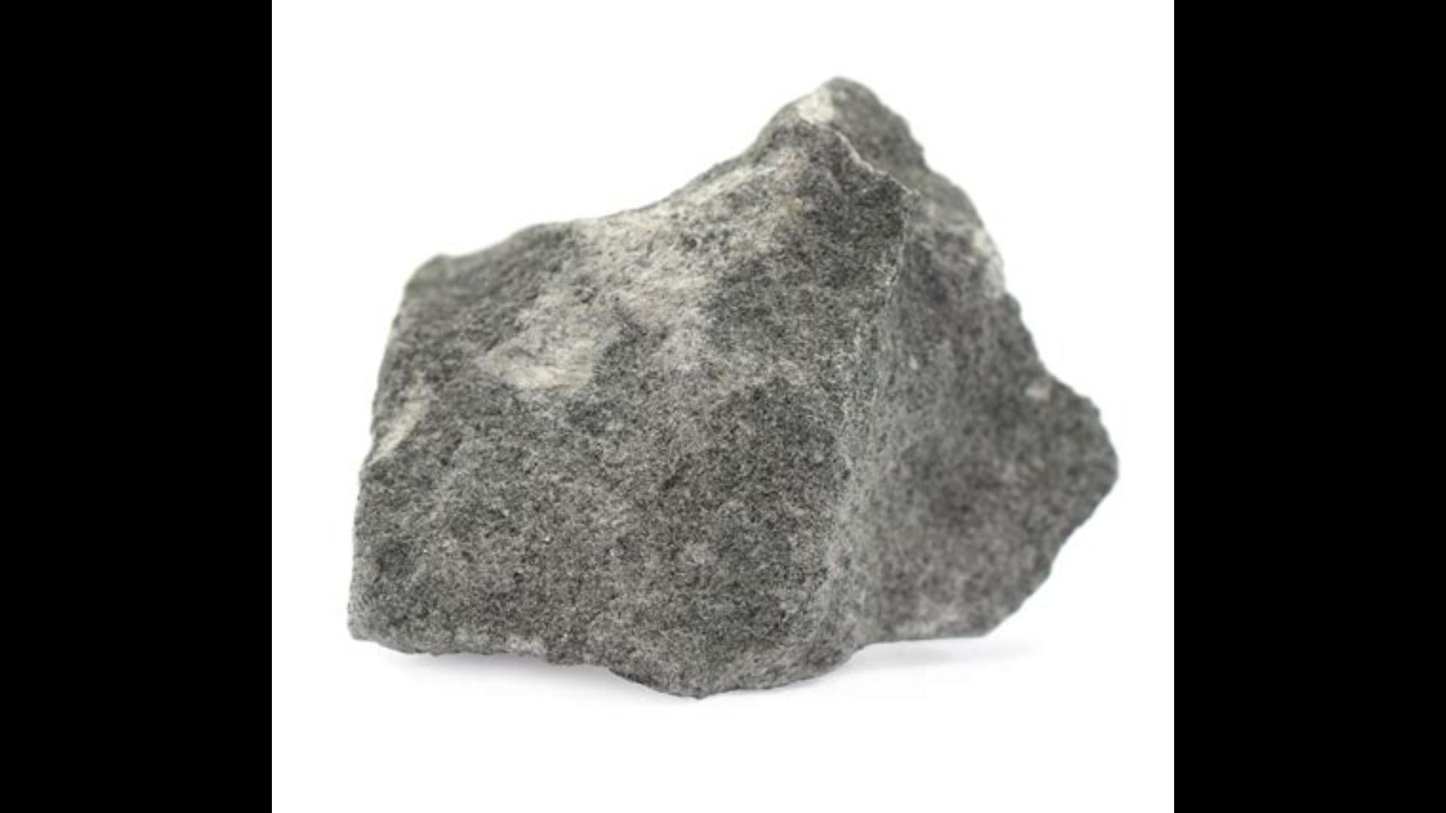rock: (350, 80, 1114, 691)
